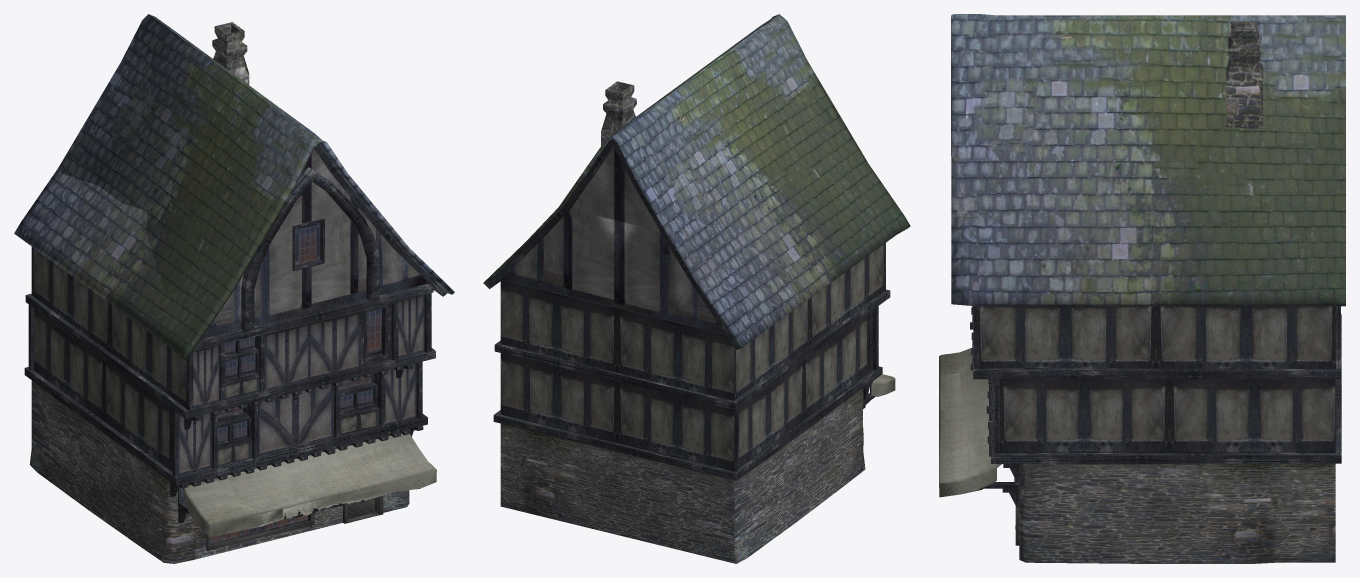
File: WeaponShop.DAE
The picture shows the model from 3 angles, left to right: view 1: azimuth 30°, elevation 25°; view 2: azimuth 150°, elevation 25°; view 3: azimuth 270°, elevation 25°; orthographic projection. The views are drawn at different scales.
Visible parts, largest first — view 1: WeaponShop750, WeaponShop300; view 2: WeaponShop750, WeaponShop300; view 3: WeaponShop750, WeaponShop300.
Boxes of the visible parts, bbox=[...] form: WeaponShop750: bbox=[14, 15, 454, 563]; WeaponShop300: bbox=[20, 14, 454, 563]; WeaponShop750: bbox=[483, 14, 910, 563]; WeaponShop300: bbox=[486, 14, 896, 563]; WeaponShop750: bbox=[939, 14, 1345, 563]; WeaponShop300: bbox=[939, 14, 1345, 563].
Size of the model in its own units: 12.01 by 13.49 by 17.91.
